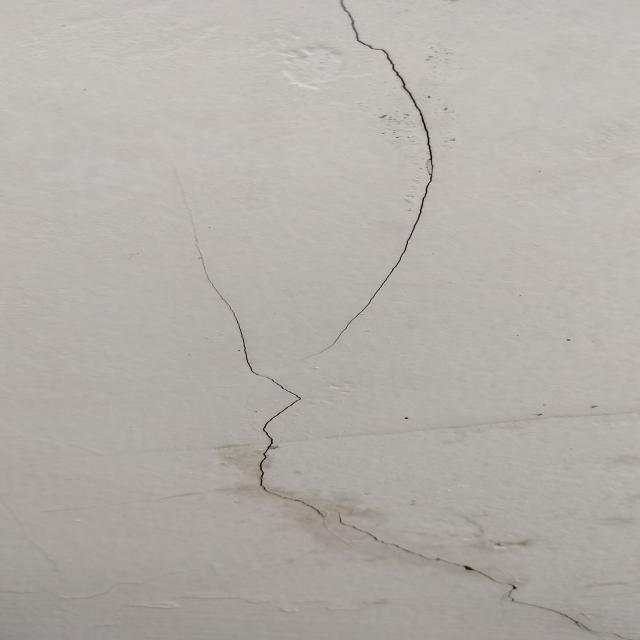Crack: (136, 1, 640, 640)
